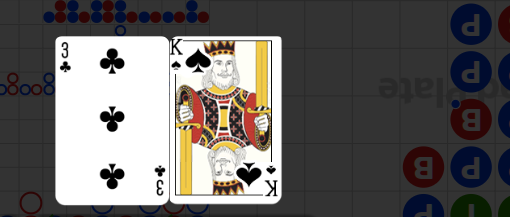3C: (58, 41, 73, 75)
KS: (264, 162, 280, 198)
